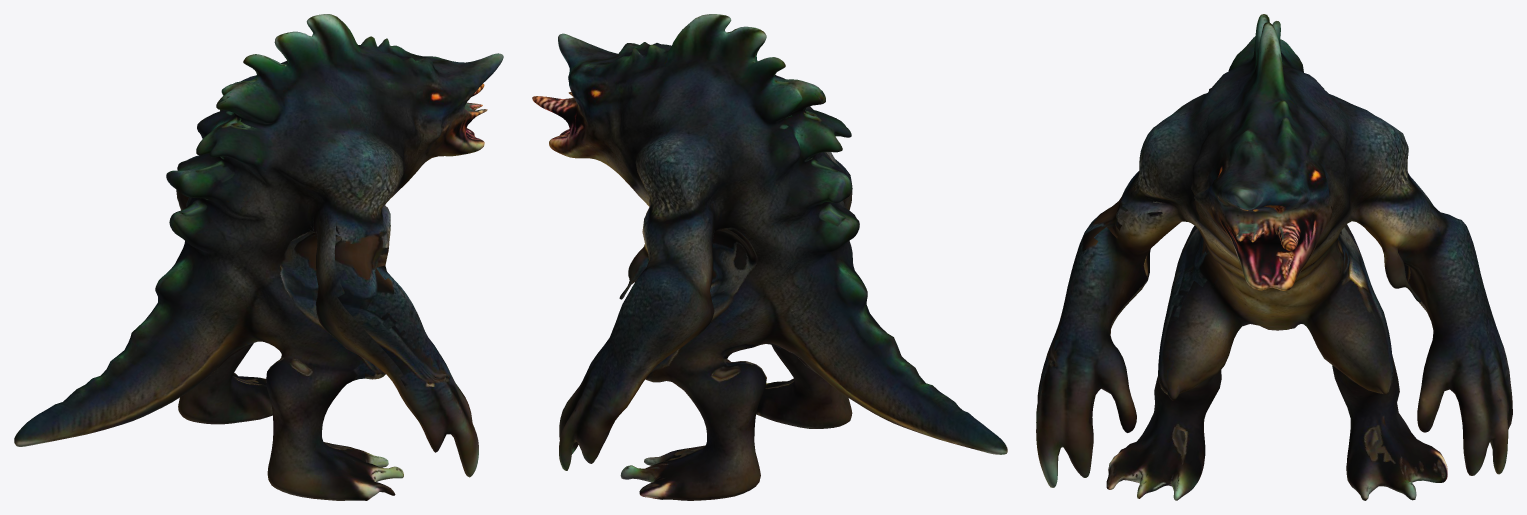
The model's file is giant.glb.
3 renders of one model, left to right at view 1: azimuth 30°, elevation 25°; view 2: azimuth 150°, elevation 25°; view 3: azimuth 270°, elevation 25°, orthographic. The views are drawn at different scales.
Visible parts, largest first — view 1: mesh; view 2: mesh; view 3: mesh.
Part boxes in pixels (<box>): mesh: <box>14,14,503,500</box>; mesh: <box>532,14,1007,500</box>; mesh: <box>1036,14,1512,500</box>.
Size of the model in its own units: 0.9892 by 0.8589 by 0.7972.
1 material, 1 textured.
